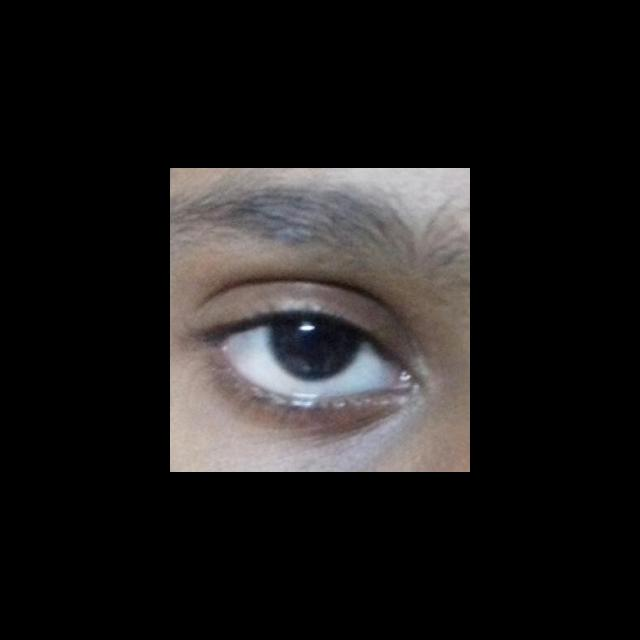eye: (220, 314, 399, 402)
iris: (266, 317, 363, 382)
